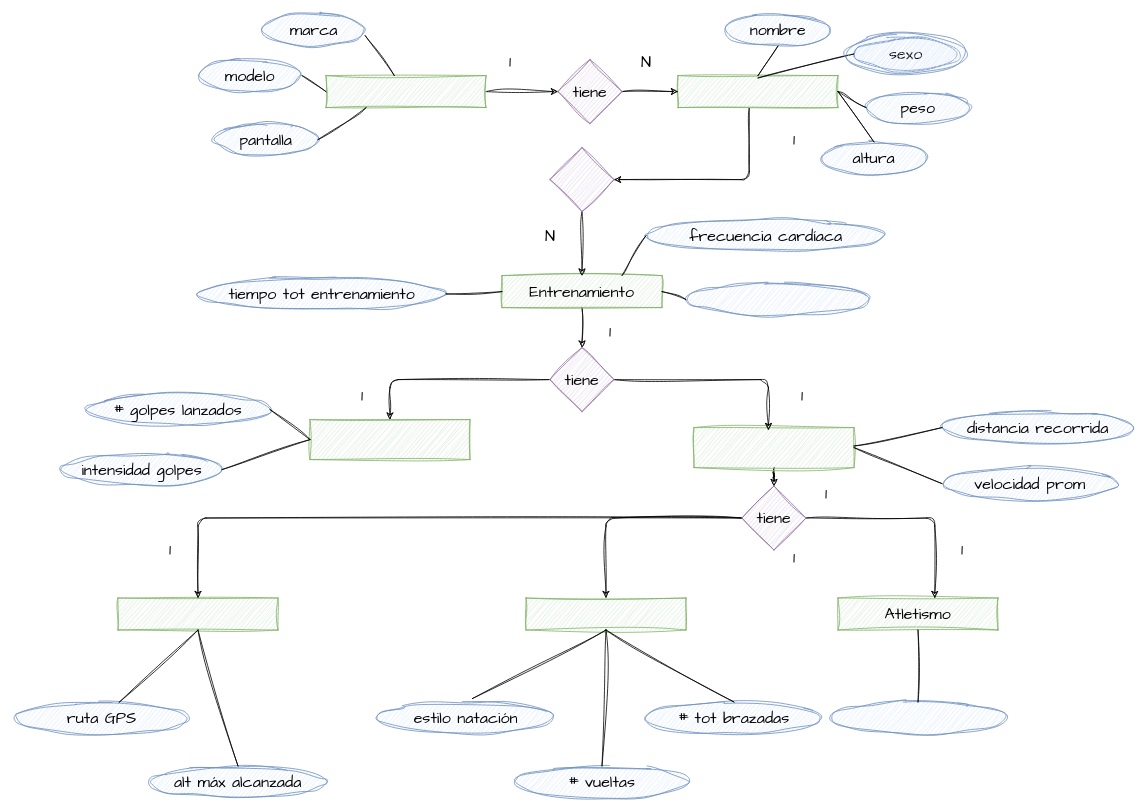
Some shapes in this 1148 by 812 pixel diagram are drawn without their labels. Here are the shapes that lost their labels. From the top down, the box of each, then its label:
(325, 75, 486, 108): Dispositivo
(677, 75, 838, 108): Usuario
(549, 147, 614, 212): real;iza
(685, 283, 870, 316): calorías quemadas
(309, 419, 470, 460): Deporte de combate
(693, 427, 854, 468): Deporte de resistencia
(117, 597, 278, 630): Ciclismo
(525, 597, 686, 630): Acuáticos
(829, 701, 1006, 734): # pasos dados
